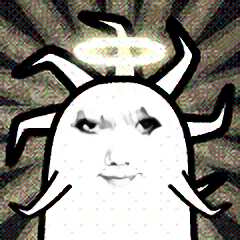dragon: (71, 109, 166, 185)
